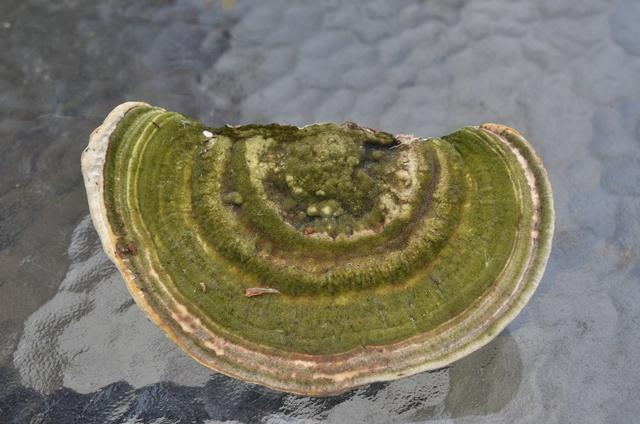poisonous_mushroom: (79, 97, 556, 397)
